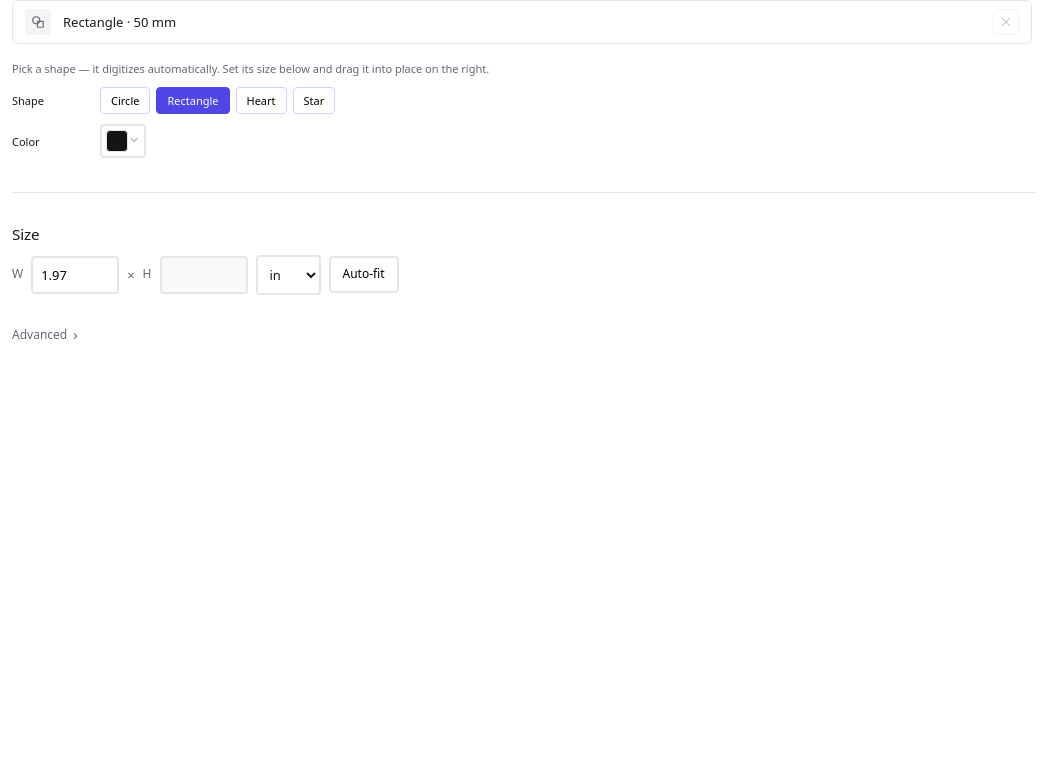
it: shape: kind and colour visible; the per-kind parameters are Advanced
Expected: the button "Rectangle" is shown, [156,87,230,114]
Expected: the text "Color" is shown, [12,134,40,149]
What coordinates should you click on to do the following:
click the button with test id "advanced-toggle"
I would click on:
 (45, 335)
Its box is [12,321,78,350].
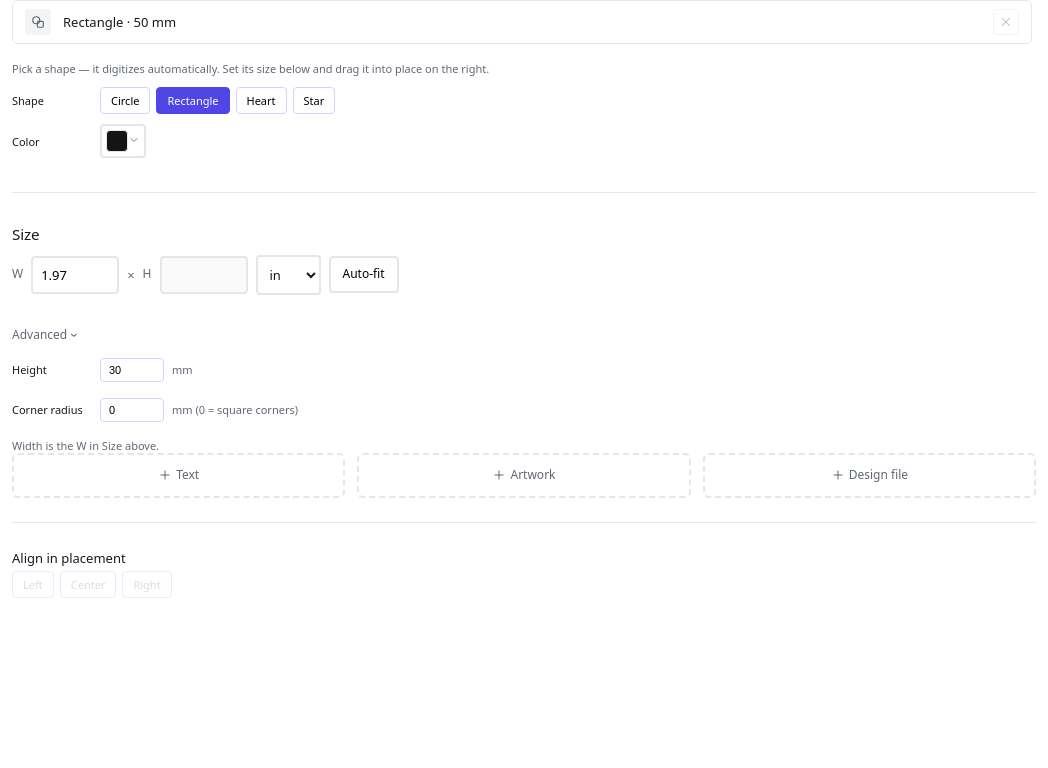
Now the text "Corner radius" is shown, box [12,402,92,417]
